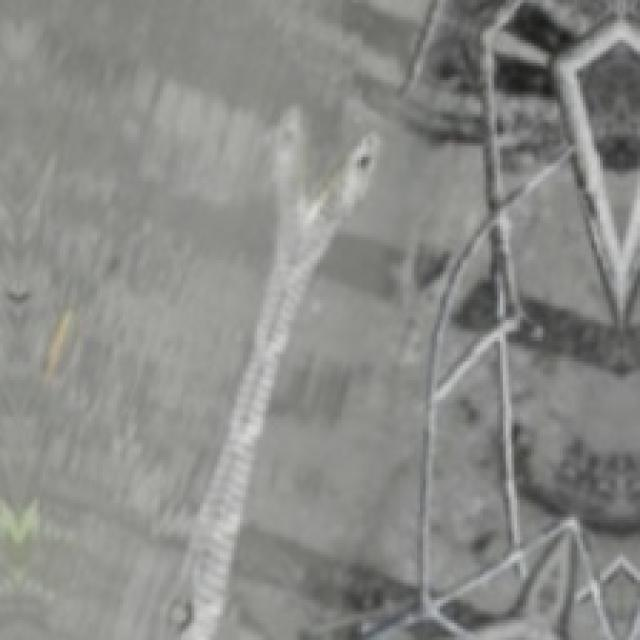king cobra: (186, 0, 637, 637)
